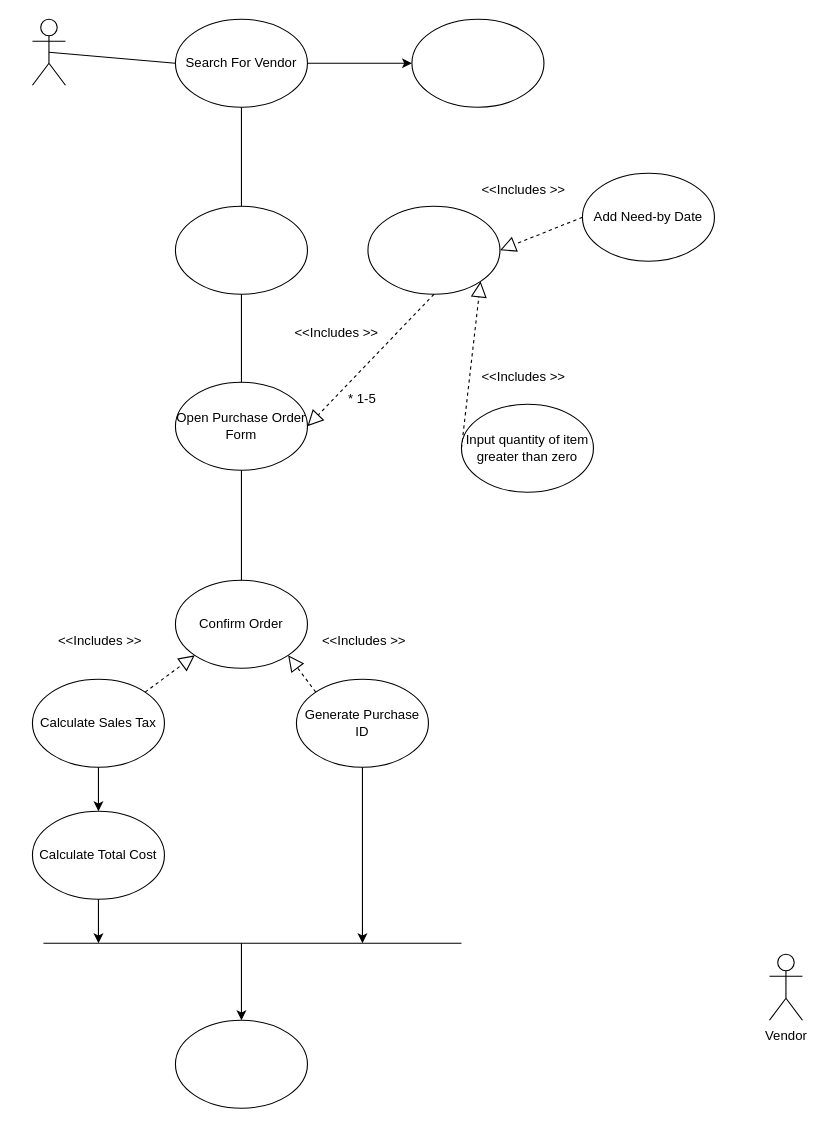
Image size: 826x1128. Some labels were removed from this diagram. Each missing label, with the centre of its shape:
Purchaser: (48,51)
Select a Vendor: (240,249)
Select Item from Dropdown List: (433,249)
Update Balance of Vendor: (240,1063)
View Purchase Order(s) for Vendor: (477,62)
